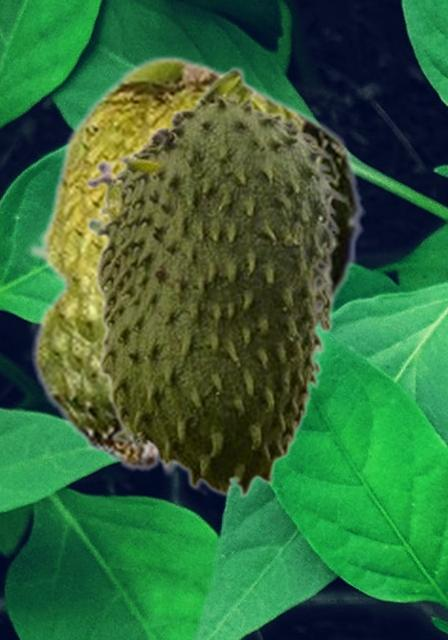guyabano: (26, 54, 364, 477), (85, 64, 346, 497)
